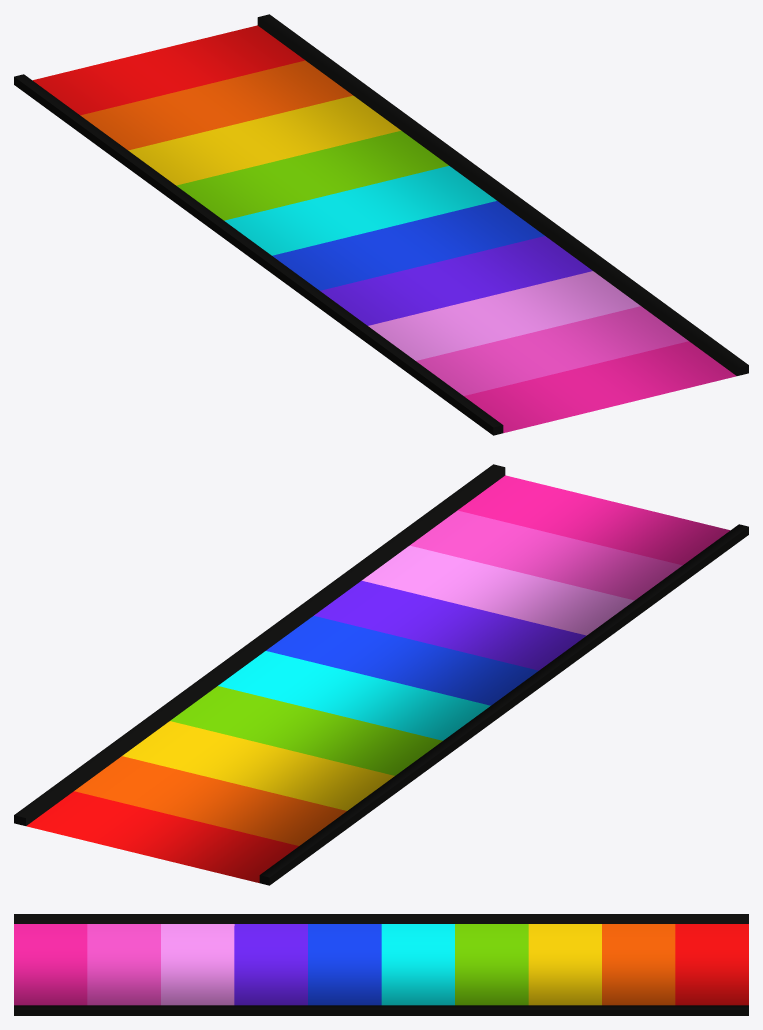
The model's file is EndGround.fbx.
The picture shows the model from 3 angles, top to bottom: view 1: azimuth 30°, elevation 25°; view 2: azimuth 150°, elevation 25°; view 3: azimuth 270°, elevation 25°; orthographic projection. The views are drawn at different scales.
Visible parts, largest first — view 1: Plane.002; view 2: Plane.002; view 3: Plane.002.
Part boxes in pixels (x1=…): Plane.002: x1=14, y1=14, x2=748, y2=435; Plane.002: x1=14, y1=464, x2=748, y2=885; Plane.002: x1=14, y1=914, x2=748, y2=1015.
Bounding box in the file's own units: 1207 × 36.74 × 3920.
